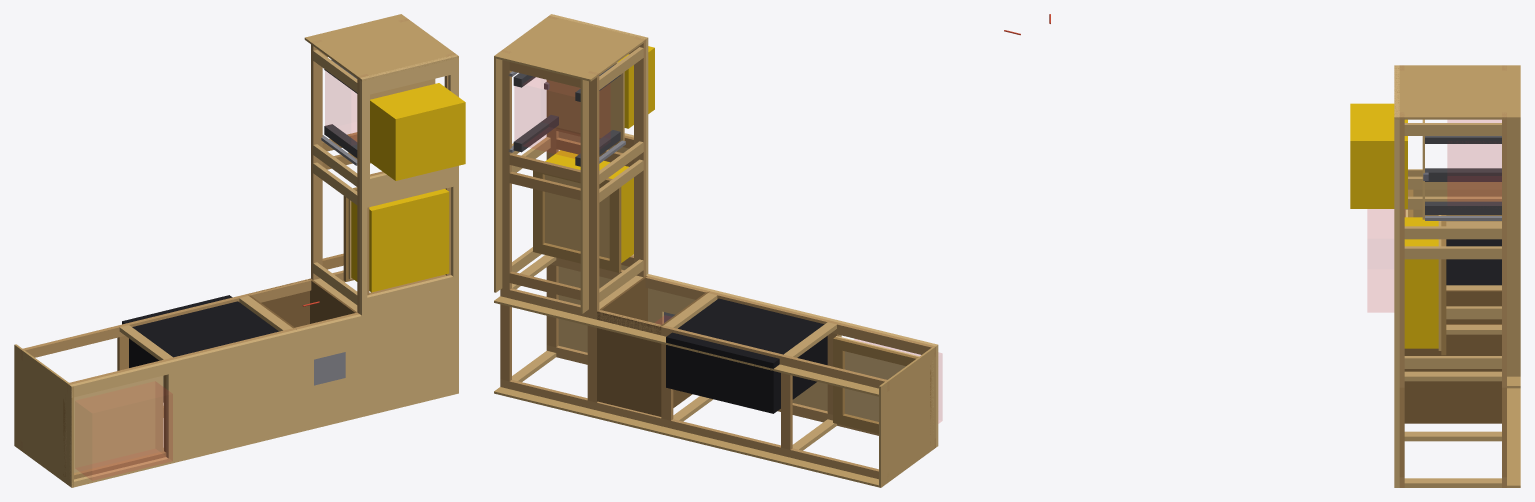
Rendered from l_bench.obj.
3 renders of one model, left to right at view 1: azimuth 30°, elevation 25°; view 2: azimuth 150°, elevation 25°; view 3: azimuth 270°, elevation 25°, orthographic. The views are drawn at different scales.
Parts seen in each view (by area): view 1: TopLeg_Top_MidRight, TopLeg_Top_FarRight, Planer_Body_Working, Saw_Body, Miter_Recess_Bottom, TopLeg_EndPanel_Left, Tall_Husky_40x18x36, ShortLeg_EndPanel_Front, TopLeg_Top_RouterBack, TopLeg_FrontBottomRail, Miter_Saw_Body_Ghost, ShortLeg_RoomBottomRail (+25 smaller); view 2: Tall_Husky_40x18x36, Router_Cabinet_Floor, TopLeg_EndPanel_Left, ShortLeg_EndPanel_Front, Planer_Body_Stored_Ghost, TopLeg_BackBottomRail, TopLeg_FrontBottomRail, TopLeg_ToeKick_Back, TopLeg_FrontTopRail, Planer_Sled, TopLeg_ToeKick_Front, Saw_Sled (+37 smaller); view 3: Router_Cabinet_Right, ShortLeg_EndPanel_Front, Planer_Body_Working, Saw_Body, ShortLeg_ToeKick_Wall, Planer_Body_Stored_Ghost, Miter_Saw_Body_Ghost, Tall_Husky_40x18x36, ShortLeg_WallTopRail, TopLeg_ToeKick_Back, ShortLeg_WallSideStud_1, ShortLeg_WallSideStud_2 (+20 smaller).
Part boxes in pixels (bbox=[...]): TopLeg_Top_MidRight: bbox=[166, 330, 297, 463]; TopLeg_Top_FarRight: bbox=[362, 292, 458, 416]; Planer_Body_Working: bbox=[370, 83, 465, 180]; Saw_Body: bbox=[351, 189, 449, 292]; Miter_Recess_Bottom: bbox=[65, 375, 163, 472]; TopLeg_EndPanel_Left: bbox=[20, 349, 73, 487]; Tall_Husky_40x18x36: bbox=[122, 295, 278, 402]; ShortLeg_EndPanel_Front: bbox=[313, 19, 458, 81]; TopLeg_Top_RouterBack: bbox=[297, 374, 361, 432]; TopLeg_FrontBottomRail: bbox=[20, 270, 345, 360]; Miter_Saw_Body_Ghost: bbox=[75, 381, 172, 480]; ShortLeg_RoomBottomRail: bbox=[311, 40, 322, 279]; Tall_Husky_40x18x36: bbox=[666, 298, 827, 413]; Router_Cabinet_Floor: bbox=[597, 311, 661, 416]; TopLeg_EndPanel_Left: bbox=[886, 345, 937, 482]; ShortLeg_EndPanel_Front: bbox=[501, 14, 647, 75]; Planer_Body_Stored_Ghost: bbox=[514, 77, 610, 158]; TopLeg_BackBottomRail: bbox=[500, 379, 888, 481]; TopLeg_FrontBottomRail: bbox=[500, 288, 889, 391]; TopLeg_ToeKick_Back: bbox=[494, 387, 887, 487]; TopLeg_FrontTopRail: bbox=[550, 257, 935, 357]; Planer_Sled: bbox=[548, 62, 624, 142]; TopLeg_ToeKick_Front: bbox=[494, 296, 887, 396]; Saw_Sled: bbox=[545, 175, 609, 258]; Router_Cabinet_Right: bbox=[1404, 324, 1501, 423]; ShortLeg_EndPanel_Front: bbox=[1394, 65, 1506, 119]; Planer_Body_Working: bbox=[1350, 103, 1407, 208]; Saw_Body: bbox=[1404, 217, 1438, 348]; ShortLeg_ToeKick_Wall: bbox=[1507, 116, 1520, 376]; Planer_Body_Stored_Ghost: bbox=[1447, 120, 1501, 201]; Miter_Saw_Body_Ghost: bbox=[1367, 209, 1405, 312]; Tall_Husky_40x18x36: bbox=[1446, 239, 1501, 285]; ShortLeg_WallTopRail: bbox=[1399, 112, 1404, 376]; TopLeg_ToeKick_Back: bbox=[1507, 388, 1520, 487]; ShortLeg_WallSideStud_1: bbox=[1404, 246, 1501, 259]; ShortLeg_WallSideStud_2: bbox=[1404, 226, 1501, 239].
Size of the model in its own units: 144 by 120 by 138.
